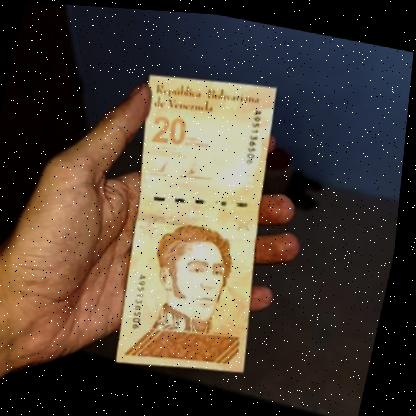twenty-front-vef: (94, 59, 309, 385)
